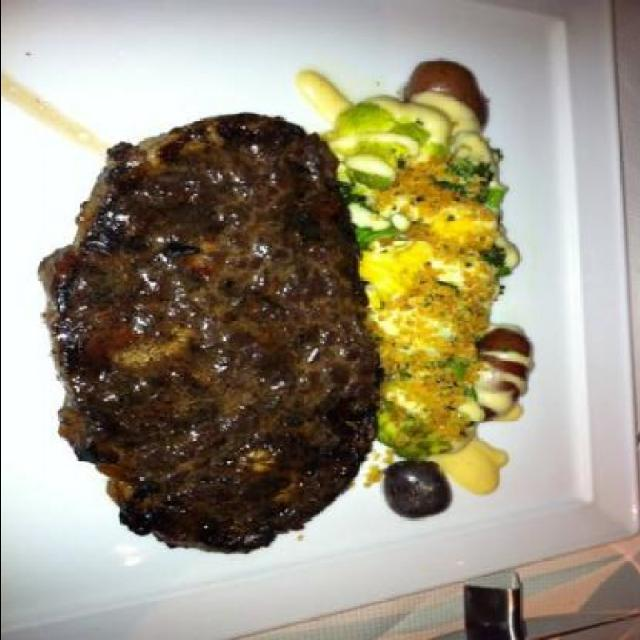Steak: (68, 104, 340, 562)
